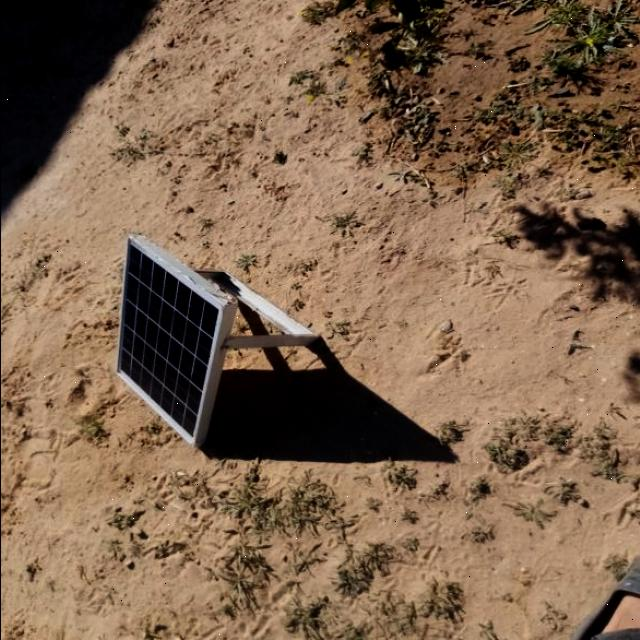Normal Solar Panel: (116, 234, 225, 446)
